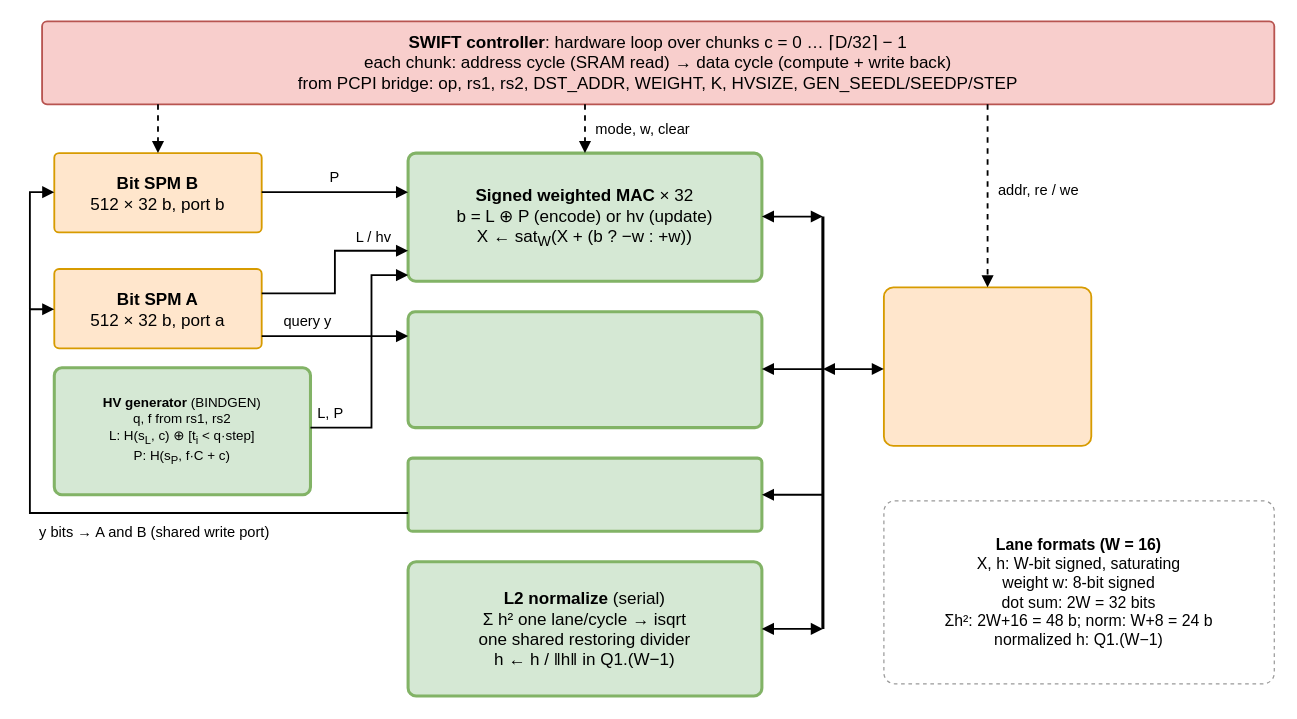
Image size: 1297x719. Some labels were removed from this diagram. The shapes that lost their labels are listed below. From the top down, each one's centre as x and y in pixels, then its label:
the point at 584,369: Dot search s k = Σ (y ? −h k : +h k ), 2W bits argmax k s k → class index → rd
the point at 987,366: Wide SPM 1024 × 512 b 16 × 4 KB macros X and K prototypes
the point at 584,494: Sign × 32: y = MSB(X), 0 → +1
